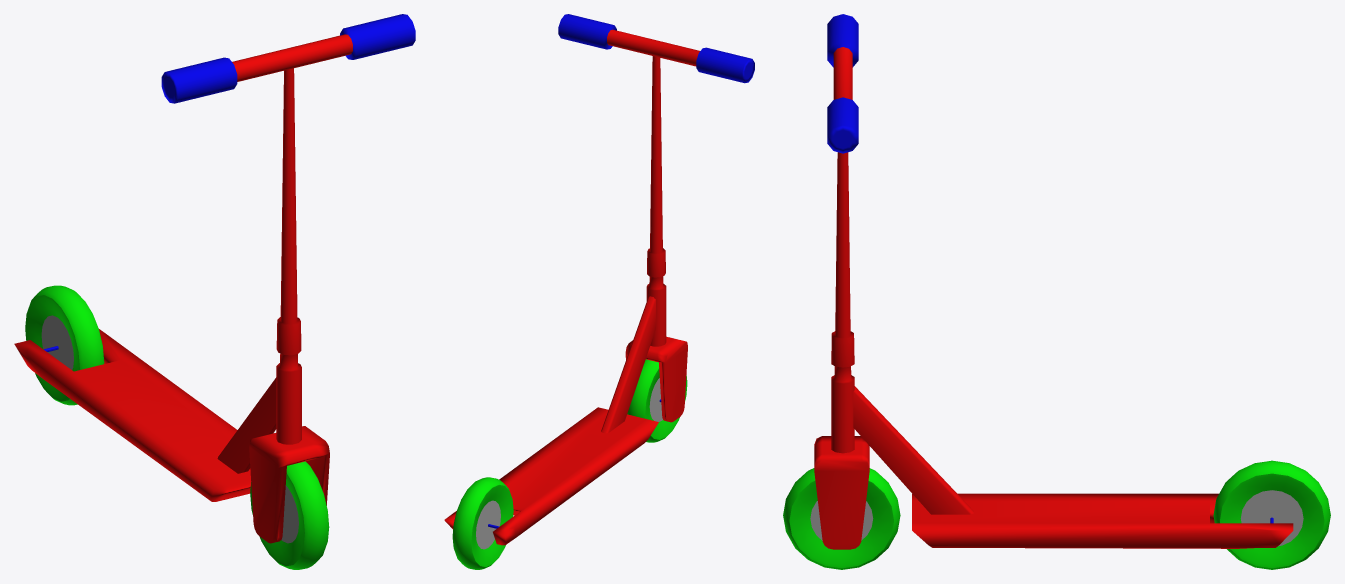
File: Scooter.fbx
3 views of the same model, side by side, from view 1: azimuth 30°, elevation 25°; view 2: azimuth 150°, elevation 25°; view 3: azimuth 270°, elevation 25° (orthographic). The views are drawn at different scales.
Visible parts, largest first — view 1: scooter; view 2: scooter; view 3: scooter.
Boxes of the visible parts, <box> form: scooter: <box>14,14,415,569</box>; scooter: <box>444,14,754,569</box>; scooter: <box>783,14,1330,569</box>.
Size of the model in its own units: 45.15 by 94.57 by 94.13.
